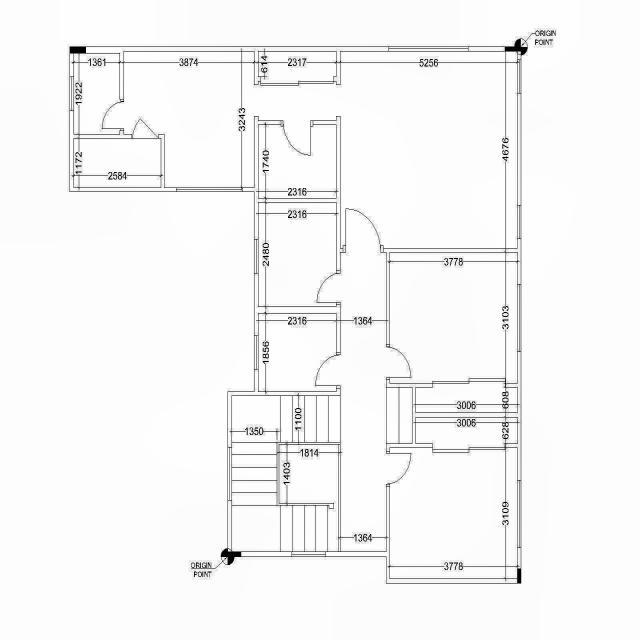Column: (70, 46, 86, 54), (504, 46, 522, 52), (228, 551, 242, 557), (517, 568, 521, 584)
Door: (342, 208, 383, 252), (280, 120, 314, 156), (314, 352, 340, 389), (386, 344, 412, 380), (386, 451, 412, 487), (316, 270, 341, 305), (101, 99, 124, 131), (132, 118, 158, 138)
Sliding Door: (416, 378, 506, 388), (260, 76, 336, 85), (432, 443, 506, 452)
Staircase: (232, 396, 340, 552)
Window: (388, 46, 468, 52), (517, 480, 521, 548), (517, 284, 521, 352), (176, 188, 242, 192), (228, 448, 232, 500), (292, 552, 326, 558), (70, 76, 74, 111), (254, 239, 258, 274), (254, 336, 258, 370), (517, 205, 521, 239), (517, 60, 521, 94)
